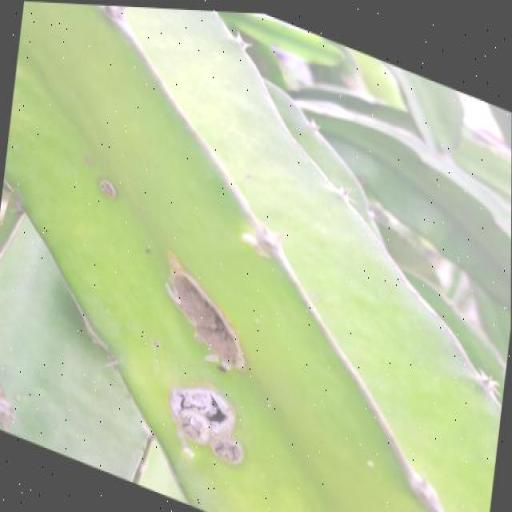stemcanker: (92, 169, 122, 206)
